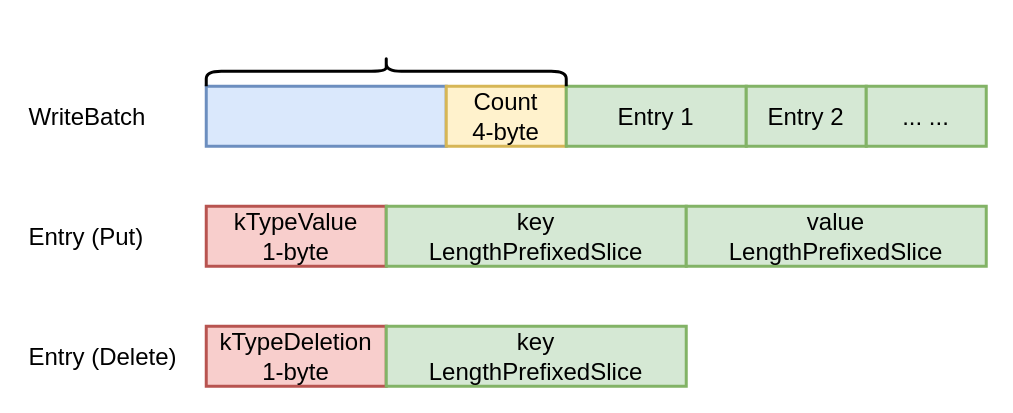
The diagram is 1013 pixels wide and 413 high, and some of its shapes have lost their labels. The centre of each missing label's shape, as x and y in pixels:
Header: the point at 385,70
SequenceNumber 8-byte: the point at 325,115
